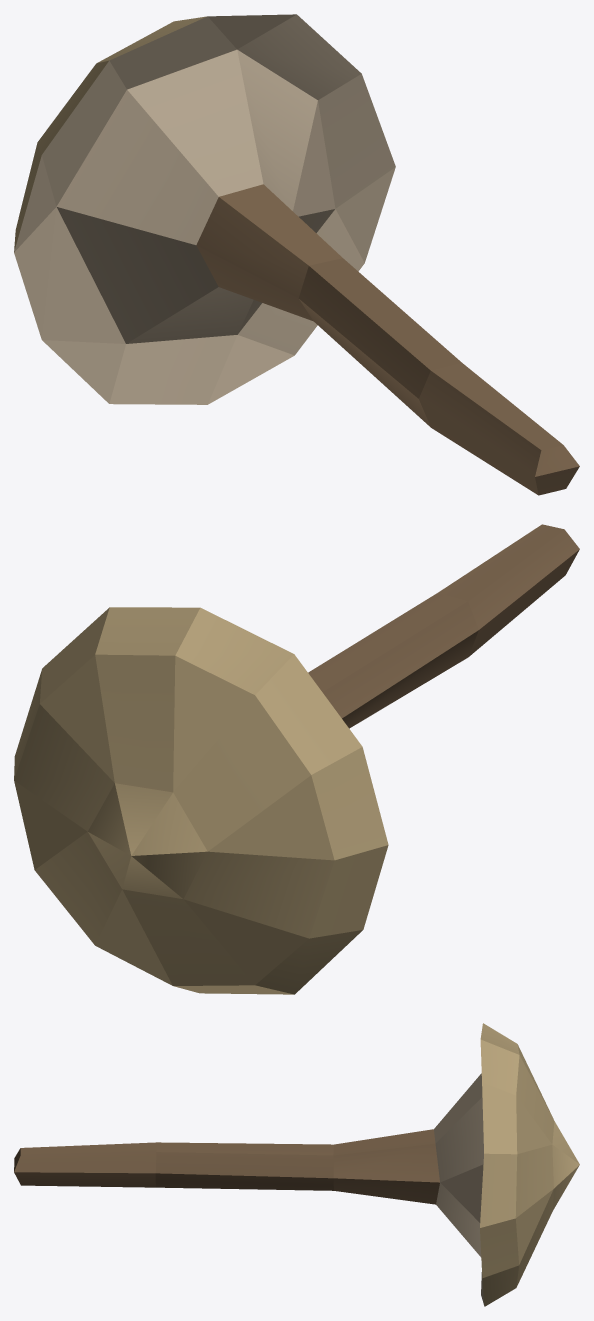
Rendered from Armillaria_1.fbx.
3 renders of one model, top to bottom at view 1: azimuth 30°, elevation 25°; view 2: azimuth 150°, elevation 25°; view 3: azimuth 270°, elevation 25°, orthographic. The views are drawn at different scales.
Parts seen in each view (by area): view 1: Group5592; view 2: Group5592; view 3: Group5592.
Boxes of the visible parts, <box> form: Group5592: <box>14,14,579,495</box>; Group5592: <box>14,524,579,994</box>; Group5592: <box>14,1023,579,1306</box>.
Size of the model in its own units: 37.06 by 36.3 by 72.94.
